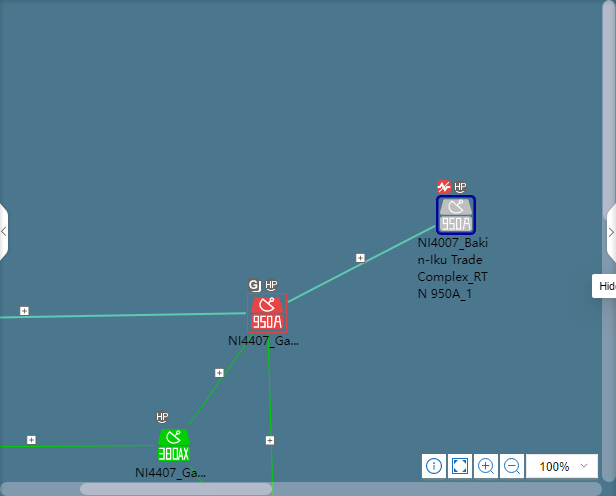Link_Blue: (287, 223, 435, 307), (2, 312, 247, 322)
Link_Green: (187, 335, 253, 426), (268, 335, 278, 495), (2, 442, 154, 449)
RTN_Gray: (441, 200, 475, 234)
RTN_Green: (156, 427, 189, 461)
RTN_Red: (248, 296, 286, 330)
